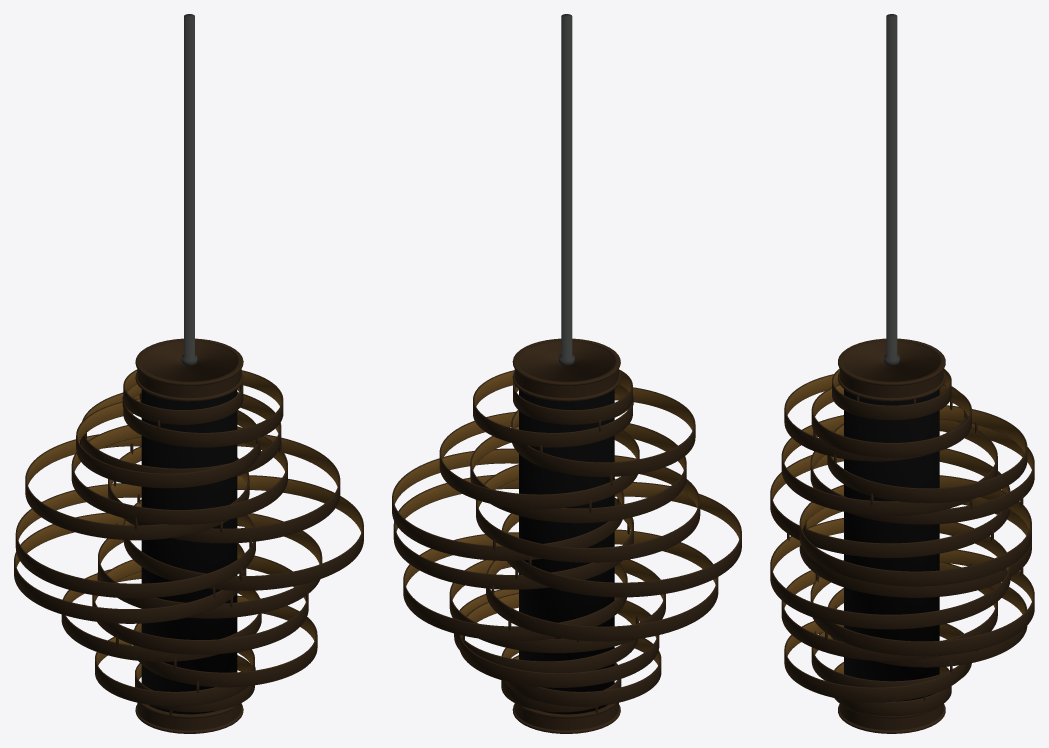
The model's file is Corbet Vertigo Lamp.fbx.
3 views of the same model, side by side, from view 1: azimuth 30°, elevation 25°; view 2: azimuth 150°, elevation 25°; view 3: azimuth 270°, elevation 25° (orthographic).
Parts seen in each view (by area): view 1: Rings, Lamp, Top main ring, Wire, Bottom main ring, Conectors; view 2: Rings, Lamp, Top main ring, Wire, Bottom main ring; view 3: Rings, Lamp, Top main ring, Wire, Bottom main ring, Conectors.
Boxes of the visible parts, x1,y1,x2,y2 form: Rings: (14,369,363,712); Lamp: (141,389,237,714); Top main ring: (135,338,243,401); Wire: (181,14,197,365); Bottom main ring: (135,702,243,733); Conectors: (80,383,308,715); Rings: (392,369,741,712); Lamp: (519,389,614,714); Top main ring: (512,338,620,401); Wire: (558,14,574,365); Bottom main ring: (512,702,620,733); Rings: (770,369,1034,716); Lamp: (844,389,939,701); Top main ring: (838,338,945,401); Wire: (884,14,899,365); Bottom main ring: (838,704,945,733); Conectors: (787,396,1023,700).
Size of the model in its own units: 45.54 by 95.74 by 33.01.
